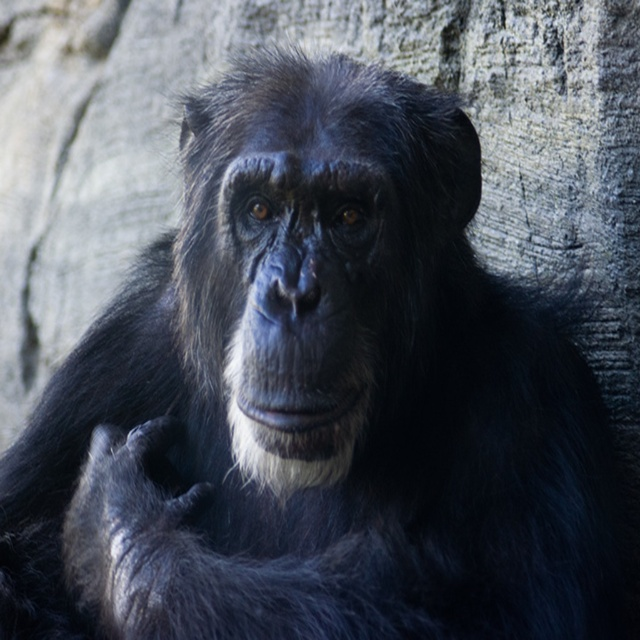Monkey: (0, 41, 639, 639)
